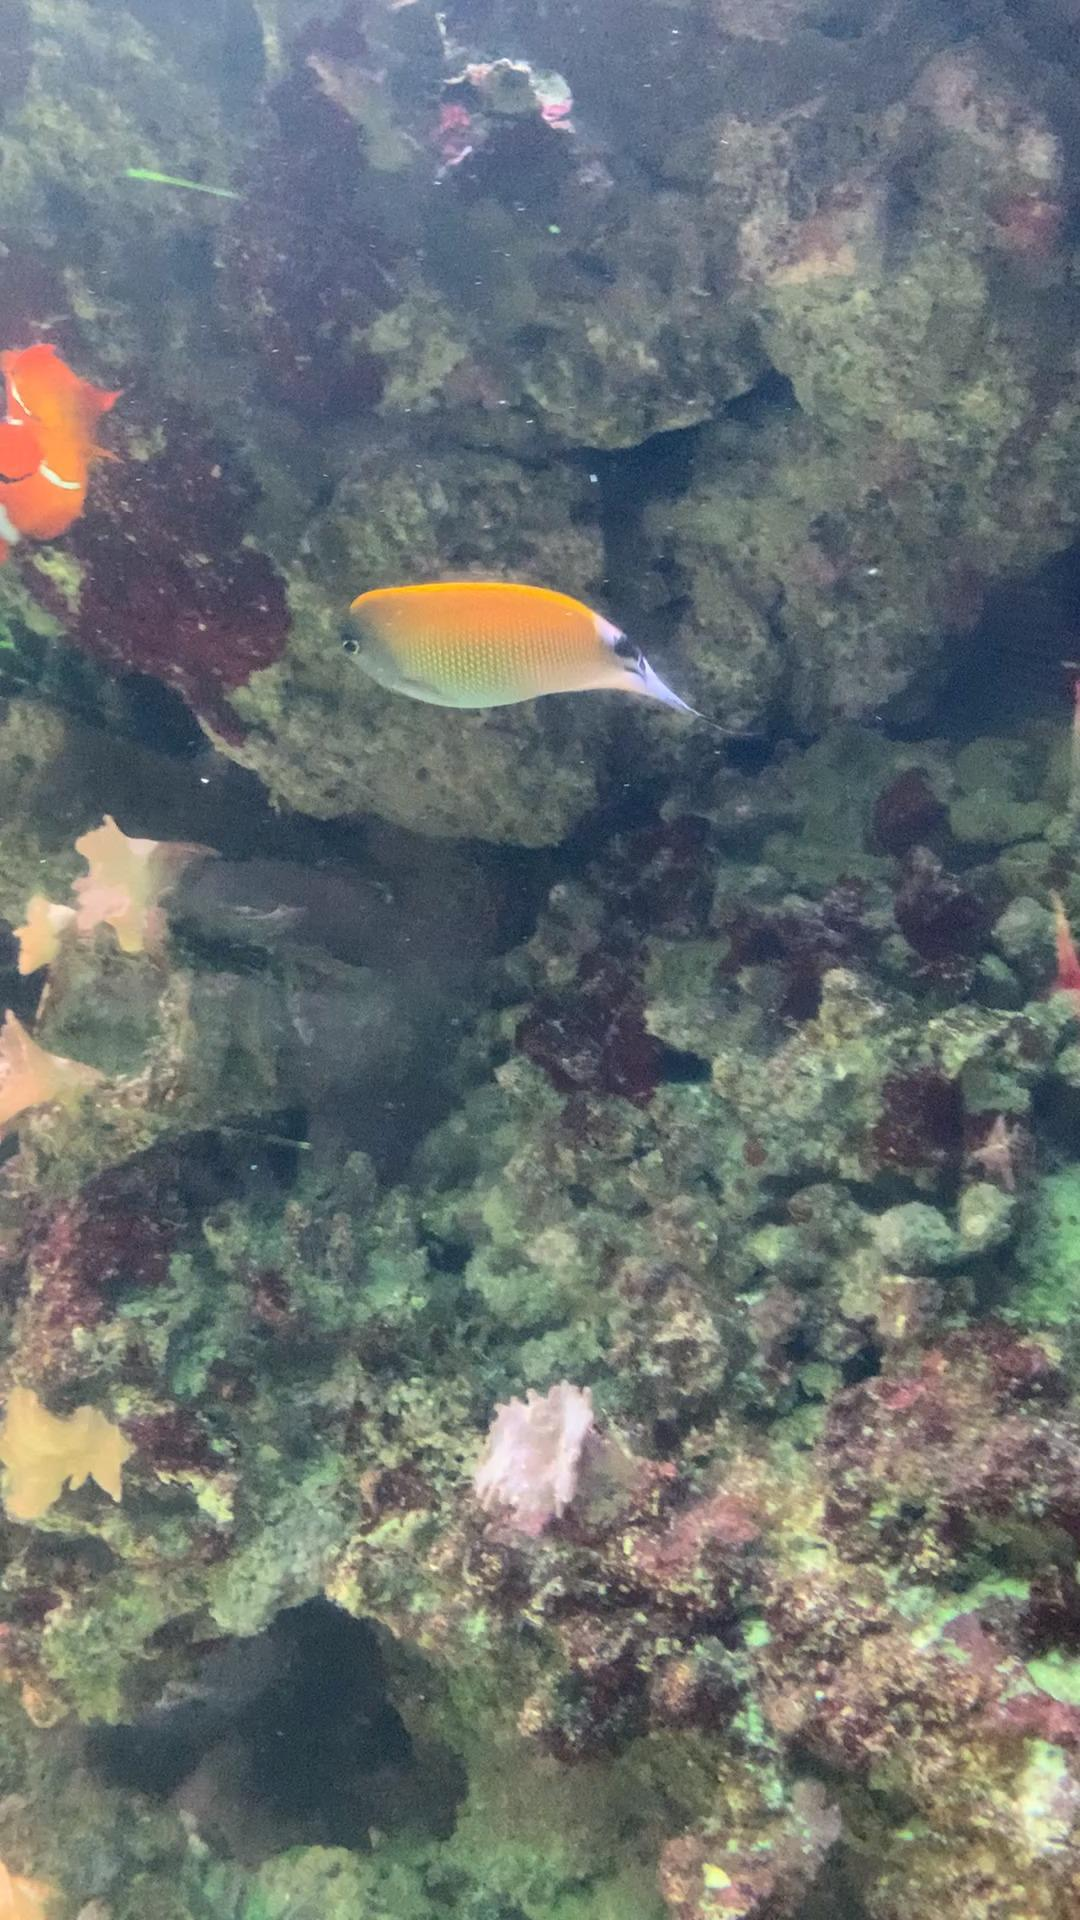fish: (335, 582, 719, 723), (4, 343, 113, 546)
